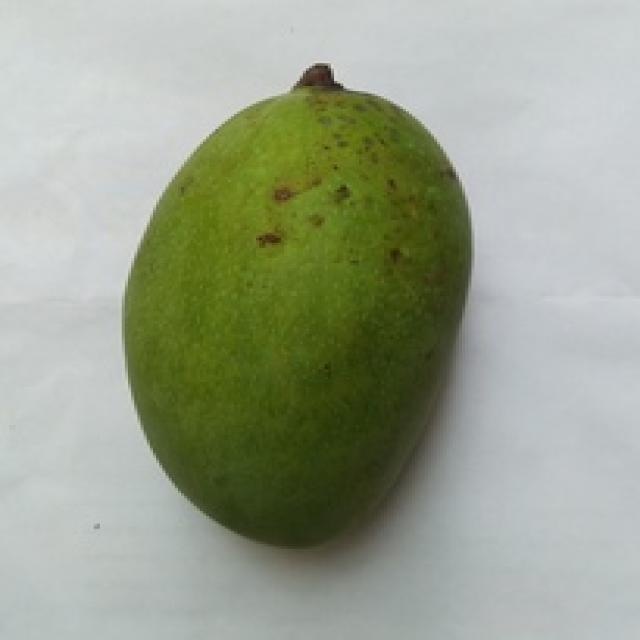Mango: (125, 81, 468, 544)
